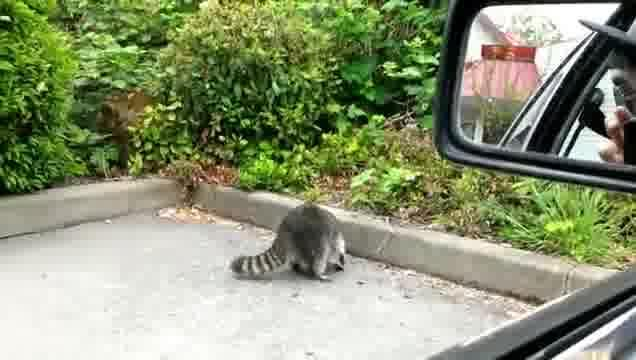raccoon: (232, 204, 347, 287)
